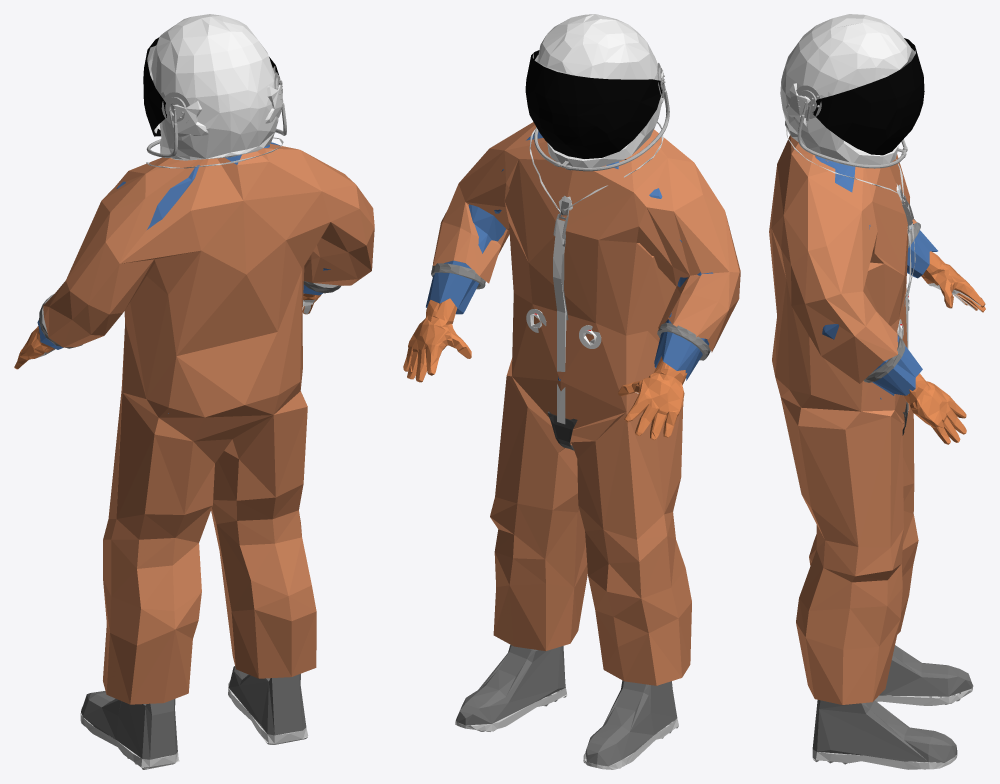
Rendered from aces-suit.glb.
3 views of the same model, side by side, from view 1: azimuth 30°, elevation 25°; view 2: azimuth 150°, elevation 25°; view 3: azimuth 270°, elevation 25° (orthographic). The views are drawn at different scales.
Visible parts, largest first — view 1: Advanced Crew Escape Suit; view 2: Advanced Crew Escape Suit; view 3: Advanced Crew Escape Suit.
Boxes of the visible parts, x1,y1,x2,y2 form: Advanced Crew Escape Suit: (14, 14, 374, 769); Advanced Crew Escape Suit: (403, 14, 740, 769); Advanced Crew Escape Suit: (769, 14, 985, 769).
Bounding box in the file's own units: 0.8222 × 1.85 × 0.5143.
